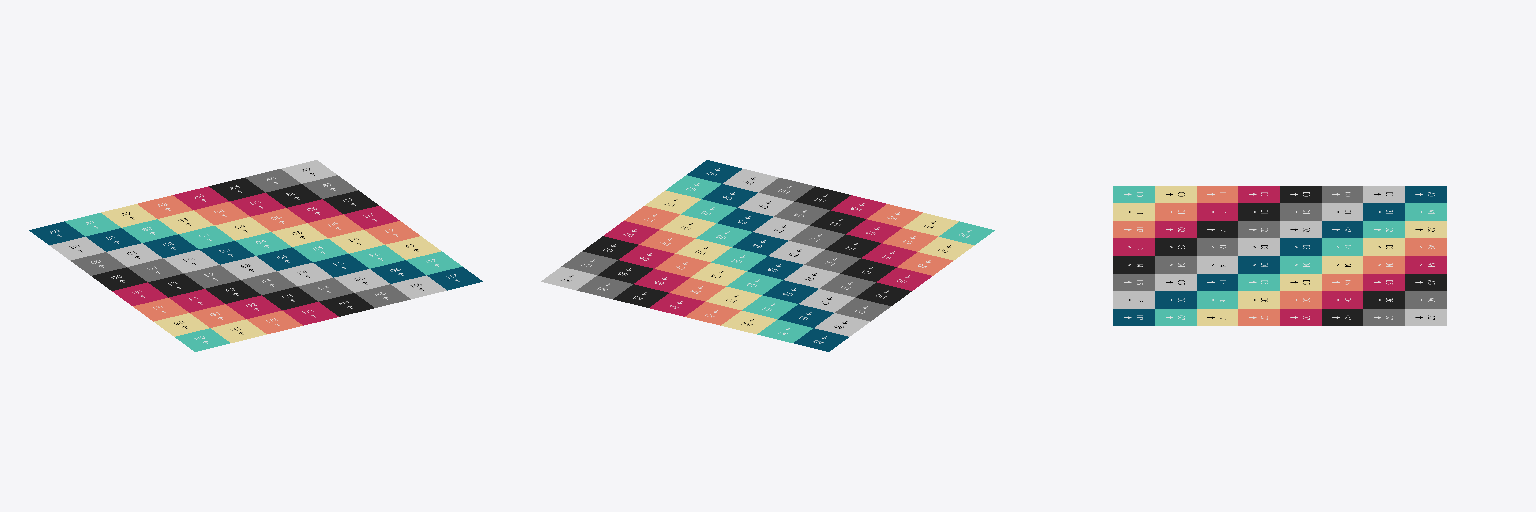
3 renders of one model, left to right at view 1: azimuth 30°, elevation 25°; view 2: azimuth 150°, elevation 25°; view 3: azimuth 270°, elevation 25°, orthographic.
Visible parts, largest first — view 1: 平面; view 2: 平面; view 3: 平面.
Part boxes in pixels (bbox=[...]): 平面: bbox=[29, 160, 482, 351]; 平面: bbox=[541, 160, 994, 351]; 平面: bbox=[1113, 186, 1446, 325].
Bounding box in the file's own units: 300 × 0 × 300.
1 materials, 1 textured.